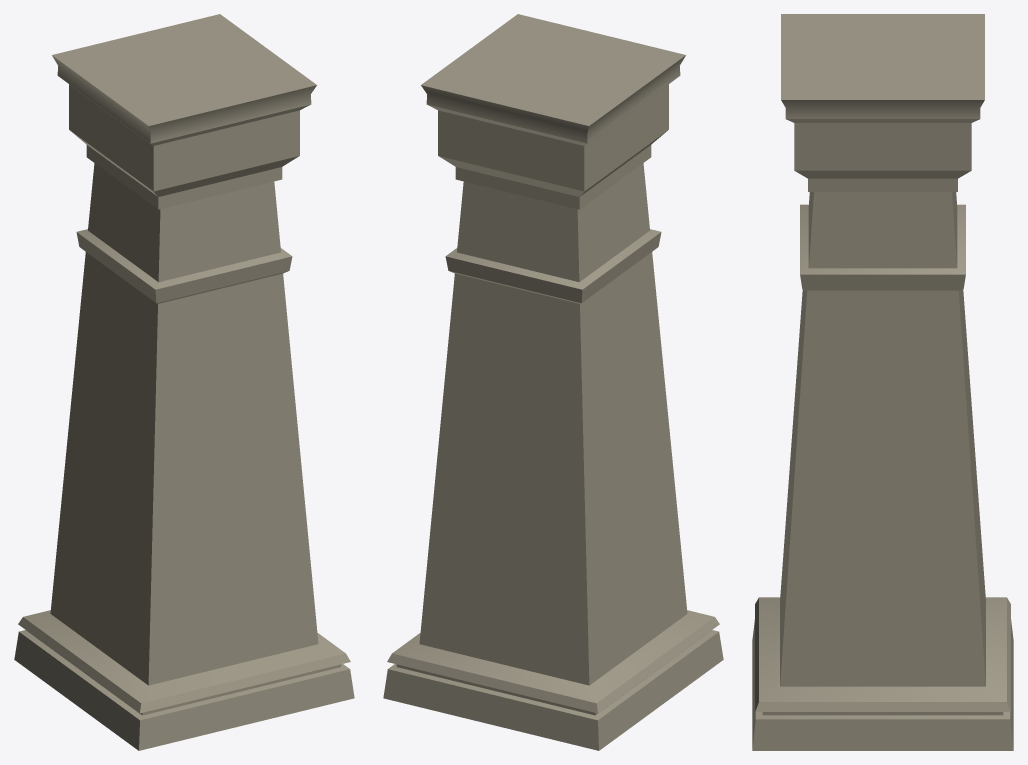
File: Column_SquareSmall.glb
3 views of the same model, side by side, from view 1: azimuth 30°, elevation 25°; view 2: azimuth 150°, elevation 25°; view 3: azimuth 270°, elevation 25° (orthographic). The views are drawn at different scales.
Parts seen in each view (by area): view 1: Column_SquareSmall; view 2: Column_SquareSmall; view 3: Column_SquareSmall.
Boxes of the visible parts, bbox=[...] form: Column_SquareSmall: bbox=[14, 14, 354, 750]; Column_SquareSmall: bbox=[383, 14, 723, 750]; Column_SquareSmall: bbox=[752, 14, 1013, 750].
Bounding box in the file's own units: 0.9073 × 2.45 × 0.9073.
